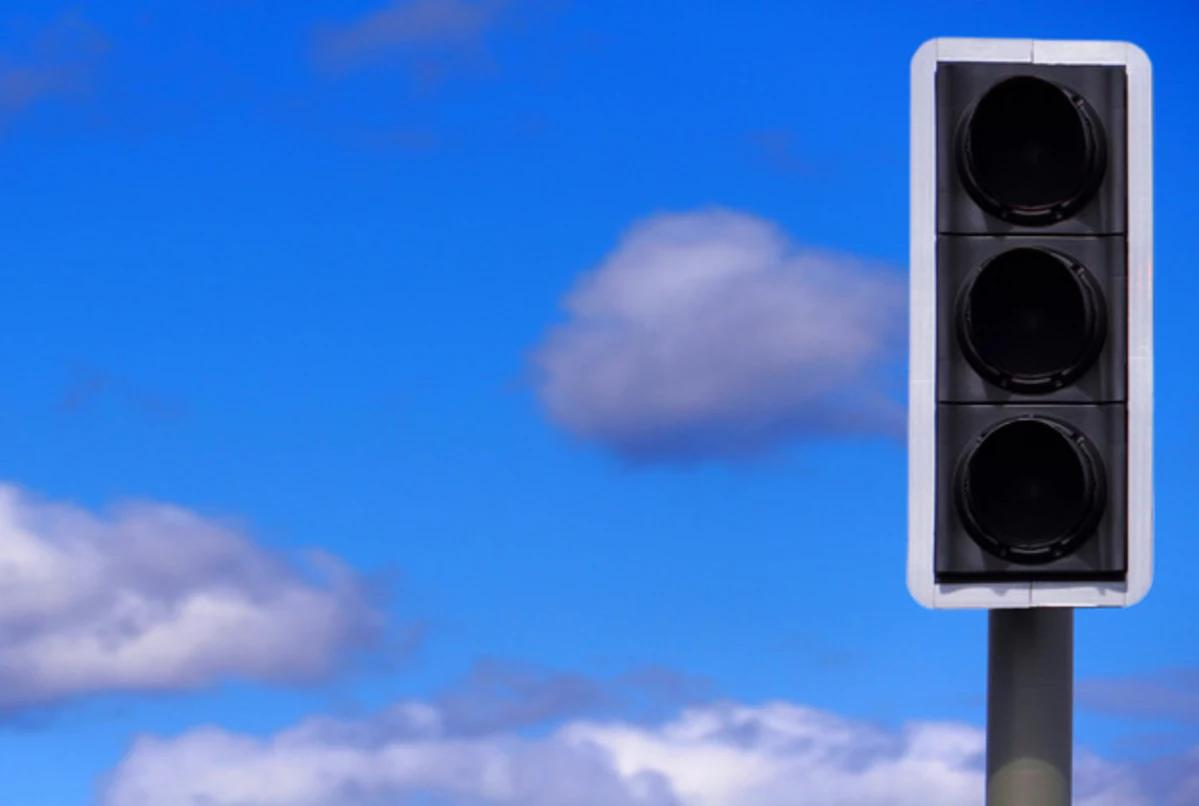off traffic light: (924, 60, 1119, 589)
